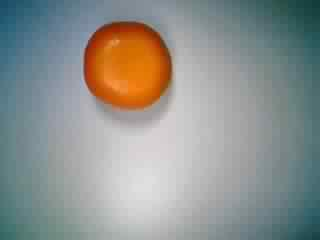orange: (77, 13, 178, 110)
